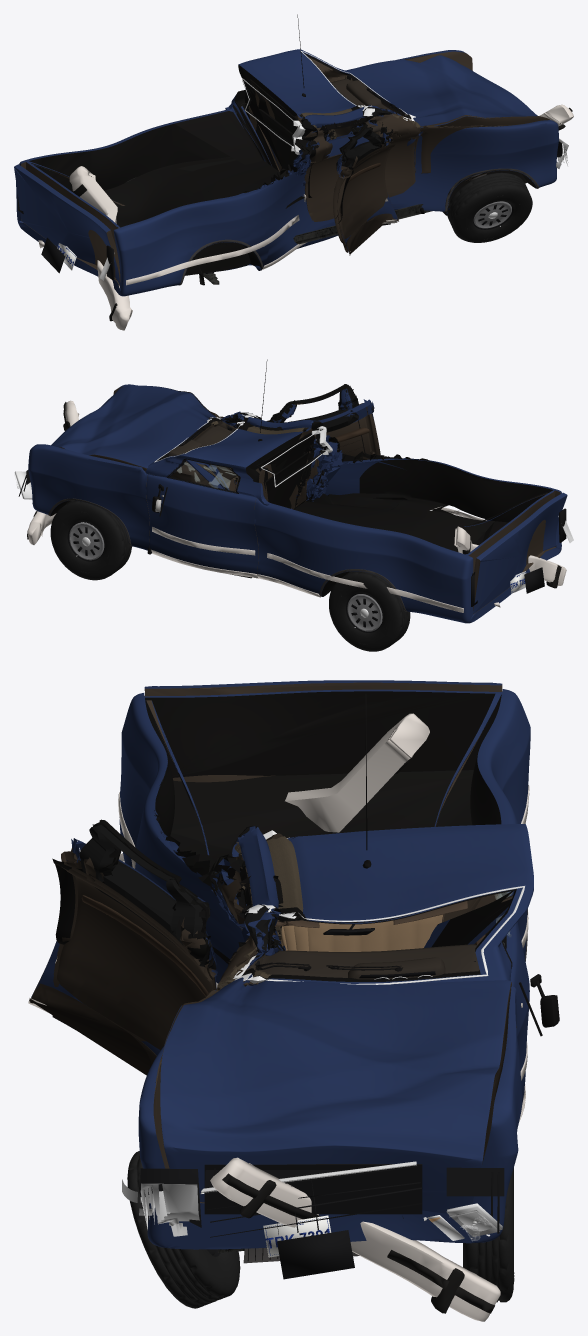
The model's file is pickup87_side_R_d3_lod1.glb.
3 views of the same model, one above another, from view 1: azimuth 30°, elevation 25°; view 2: azimuth 150°, elevation 25°; view 3: azimuth 270°, elevation 25° (orthographic). The views are drawn at different scales.
Visible parts, largest first — view 1: Body, Hood, Tailgate, Door_FR, Wheel_FR_mesh, Bumper_R, Trim, Ends, Glass, Interior, Underbody, Glass_FR (+1 smaller); view 2: Body, Door_FL, Hood, Wheel_FL_mesh, Wheel_RL_mesh, Tailgate, Door_FR, Trim, Trim_FL, Interior, Ends, Bumper_R (+5 smaller); view 3: Body, Hood, Door_FR, Ends, Interior, Bumper_F, Bumper_R, Wheel_FR_mesh, Glass_FR, Tailgate, Glass, Wheel_FL_mesh (+4 smaller).
Boxes of the visible parts, bbox=[...] form: Body: bbox=[16, 49, 558, 296]; Hood: bbox=[346, 55, 549, 128]; Tailgate: bbox=[14, 164, 120, 284]; Door_FR: bbox=[333, 127, 398, 254]; Wheel_FR_mesh: bbox=[447, 172, 532, 242]; Bumper_R: bbox=[69, 166, 132, 330]; Trim: bbox=[126, 14, 539, 285]; Ends: bbox=[17, 138, 568, 280]; Glass: bbox=[242, 50, 415, 154]; Interior: bbox=[328, 78, 390, 136]; Underbody: bbox=[38, 200, 449, 285]; Glass_FR: bbox=[336, 128, 381, 169]; Body: bbox=[28, 384, 561, 623]; Door_FL: bbox=[146, 458, 258, 573]; Hood: bbox=[51, 385, 216, 472]; Wheel_FL_mesh: bbox=[50, 500, 131, 580]; Wheel_RL_mesh: bbox=[329, 571, 410, 651]; Tailgate: bbox=[473, 492, 567, 613]; Door_FR: bbox=[267, 384, 380, 459]; Trim: bbox=[48, 359, 486, 612]; Trim_FL: bbox=[151, 458, 258, 578]; Interior: bbox=[168, 421, 238, 491]; Ends: bbox=[14, 470, 573, 606]; Bumper_R: bbox=[454, 526, 566, 588]; Body: bbox=[119, 689, 533, 1249]; Hood: bbox=[160, 977, 511, 1213]; Door_FR: bbox=[29, 819, 217, 1075]; Ends: bbox=[122, 1161, 504, 1279]; Interior: bbox=[245, 901, 479, 979]; Bumper_F: bbox=[210, 1157, 500, 1321]; Bumper_R: bbox=[119, 713, 429, 862]; Wheel_FR_mesh: bbox=[127, 1151, 240, 1308]; Glass_FR: bbox=[80, 824, 212, 947]; Tailgate: bbox=[144, 680, 502, 695]; Glass: bbox=[233, 830, 524, 984]; Wheel_FL_mesh: bbox=[463, 1168, 514, 1302].
Size of the model in its own units: 5.26 by 2.35 by 2.44.
Materials: 33 (5 with a texture image).
